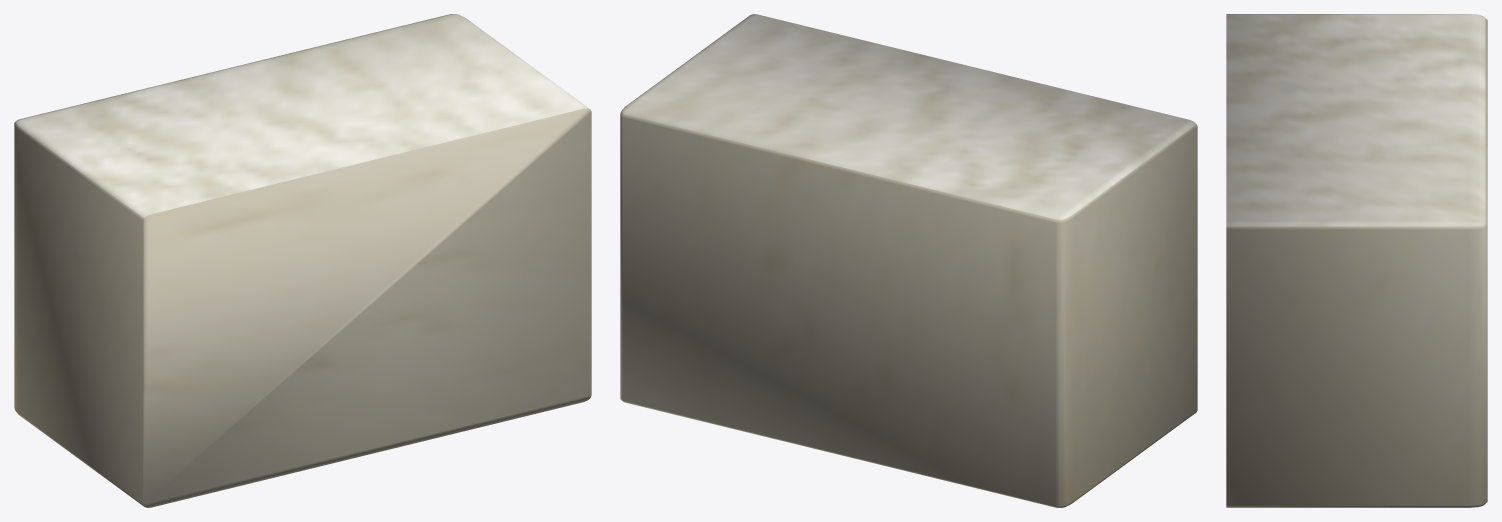
Rendered from tofu_piece_1.fbx.
The picture shows the model from 3 angles, left to right: view 1: azimuth 30°, elevation 25°; view 2: azimuth 150°, elevation 25°; view 3: azimuth 270°, elevation 25°; orthographic projection. The views are drawn at different scales.
Parts seen in each view (by area): view 1: Tofu; view 2: Tofu; view 3: Tofu.
Part boxes in pixels (x1,y1,x2,y2): Tofu: (14, 14, 591, 507); Tofu: (620, 14, 1197, 507); Tofu: (1226, 14, 1487, 507).
Bounding box in the file's own units: 9.8 × 6.12 × 5.07.
1 material, 1 textured.
